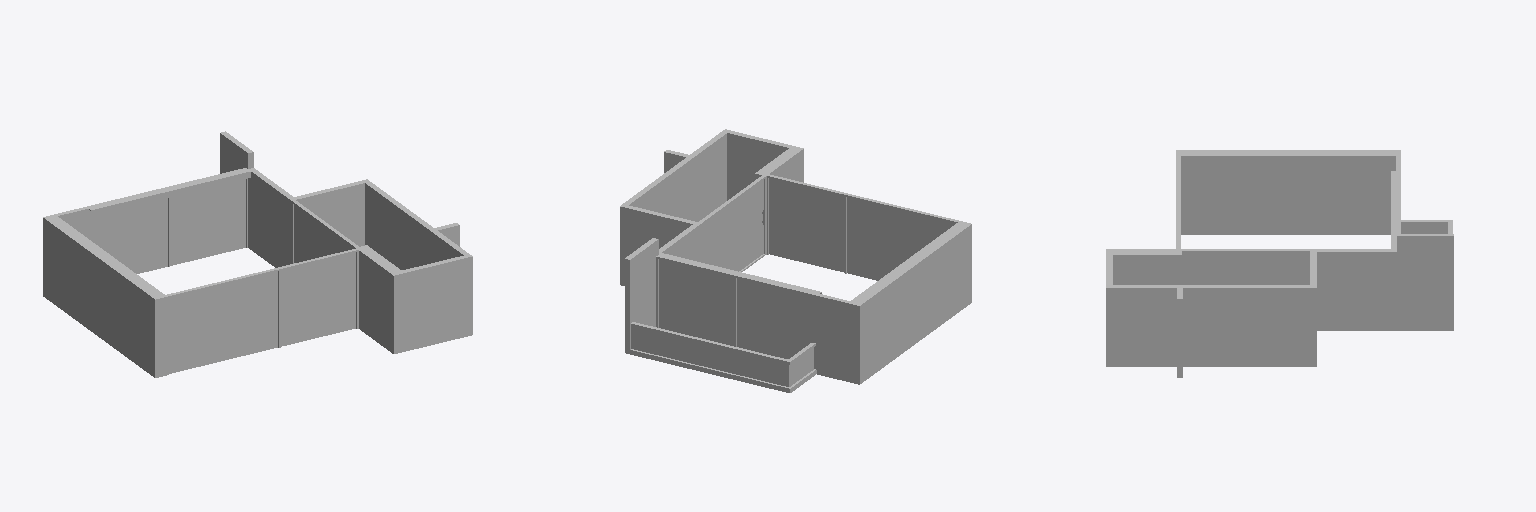
The model's file is wall.obj.
The picture shows the model from 3 angles: view 1: azimuth 30°, elevation 25°; view 2: azimuth 150°, elevation 25°; view 3: azimuth 270°, elevation 25°; orthographic projection.
Parts seen in each view (by area): view 1: Rectangle001, Line002, Line001, Rectangle009, Rectangle008, Rectangle006, Rectangle007, Rectangle003, Line109, Rectangle010, Rectangle032, Rectangle031 (+1 smaller); view 2: Rectangle001, Line001, Line002, Rectangle008, Rectangle009, Rectangle006, Rectangle007, Line107, Rectangle003, Rectangle032, Line106, Rectangle005 (+4 smaller); view 3: Line001, Rectangle001, Line002, Rectangle003, Rectangle031, Rectangle049.
Part boxes in pixels (x1,y1,x2,y2): Rectangle001: (43,214,166,377); Line002: (357,223,472,353); Line001: (220,149,432,269); Rectangle009: (169,271,277,373); Rectangle008: (281,252,355,346); Rectangle006: (170,179,245,265); Rectangle007: (95,198,167,273); Rectangle003: (294,204,354,262); Line109: (89,169,250,215); Rectangle010: (166,248,358,374); Rectangle032: (55,205,93,242); Rectangle031: (220,131,253,168); Rectangle001: (848,221,971,384); Line001: (620,157,701,353); Line002: (664,129,803,254); Rectangle008: (769,178,844,272); Rectangle009: (847,197,955,280); Rectangle006: (659,259,733,345); Rectangle007: (737,278,808,358); Line107: (631,326,813,386); Rectangle003: (703,180,763,271); Rectangle032: (811,293,849,381); Line106: (630,349,816,392); Rectangle005: (656,255,812,346); Line001: (1183,249,1453,366); Rectangle001: (1176,150,1400,234); Line002: (1106,249,1182,377); Rectangle003: (1184,253,1308,284); Rectangle031: (1397,234,1453,251); Rectangle049: (1182,249,1309,284).
Size of the model in its own units: 486 by 144 by 480.